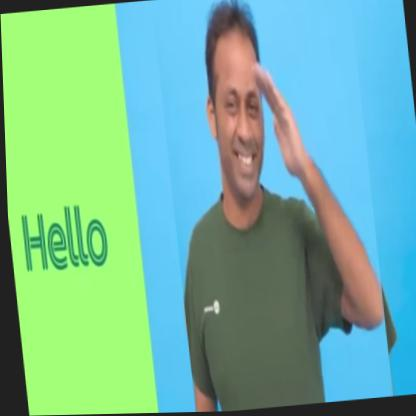Hello: (151, 0, 390, 413)
